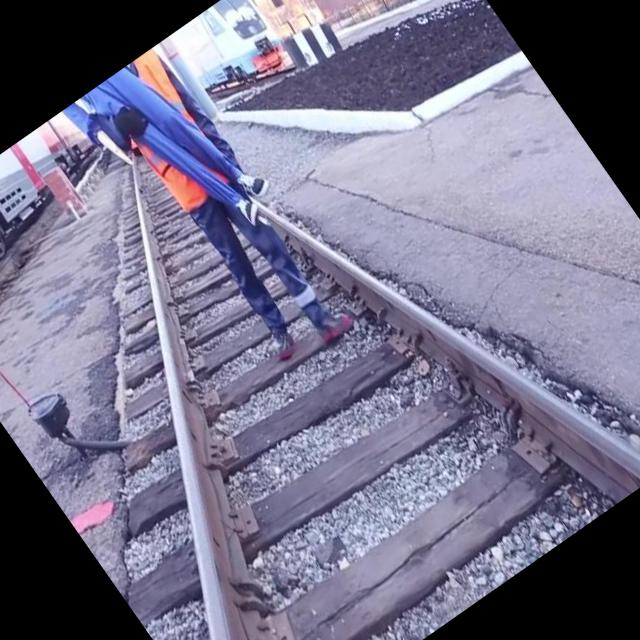safety_vest: (96, 46, 244, 217)
